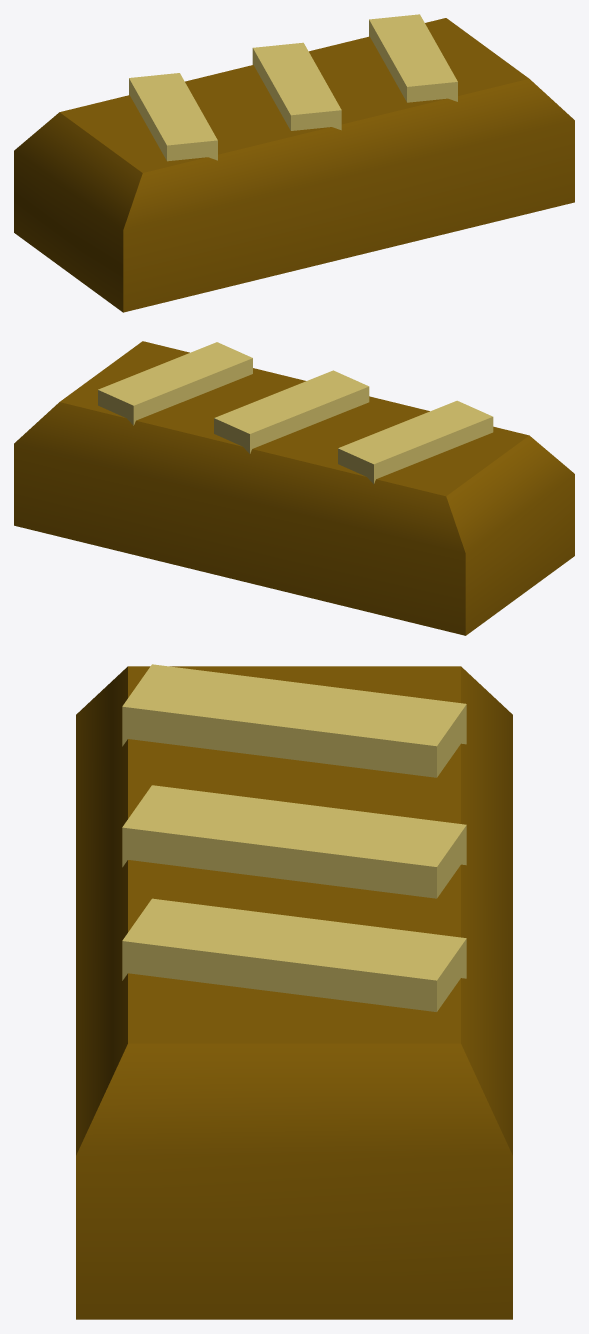
File: bread.fbx
3 views of the same model, one above another, from view 1: azimuth 30°, elevation 25°; view 2: azimuth 150°, elevation 25°; view 3: azimuth 270°, elevation 25° (orthographic). The views are drawn at different scales.
Visible parts, largest first — view 1: polySurface581; view 2: polySurface581; view 3: polySurface581.
Boxes of the visible parts, x1=… form: polySurface581: x1=14, y1=14, x2=574, y2=312; polySurface581: x1=14, y1=341, x2=574, y2=635; polySurface581: x1=76, y1=664, x2=512, y2=1319.
Bounding box in the file's own units: 14.24 × 4.15 × 5.96.
1 material, 1 textured.
